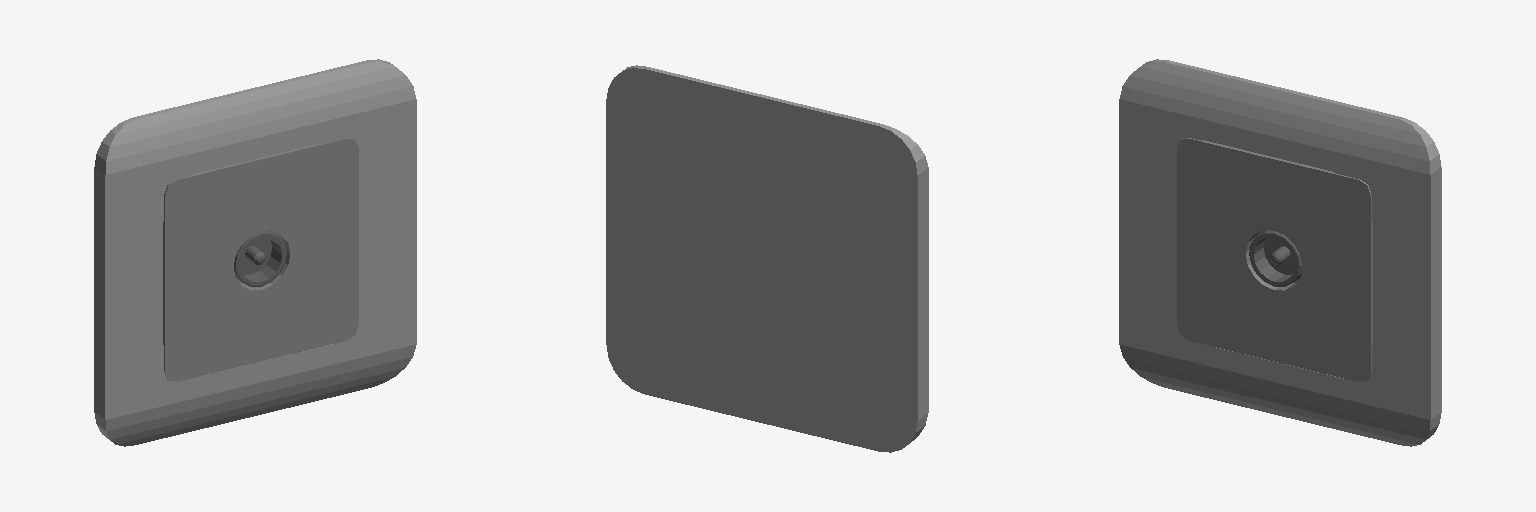
Rendered from antenna-whites.obj.
3 renders of one model, left to right at view 1: azimuth 30°, elevation 25°; view 2: azimuth 150°, elevation 25°; view 3: azimuth 330°, elevation 25°, orthographic.
Parts seen in each view (by area): view 1: base_Cube.001, RJ-45_Cube.002, antenna_Cylinder; view 2: base_Cube.001; view 3: base_Cube.001, RJ-45_Cube.002, antenna_Cylinder.
Part boxes in pixels (bbox=[...]): base_Cube.001: bbox=[94, 59, 416, 446]; RJ-45_Cube.002: bbox=[163, 138, 358, 381]; antenna_Cylinder: bbox=[234, 230, 289, 290]; base_Cube.001: bbox=[606, 65, 928, 452]; base_Cube.001: bbox=[1119, 59, 1441, 446]; RJ-45_Cube.002: bbox=[1177, 138, 1372, 381]; antenna_Cylinder: bbox=[1246, 230, 1301, 290].
Size of the model in its own units: 8.5 by 8.5 by 0.567.